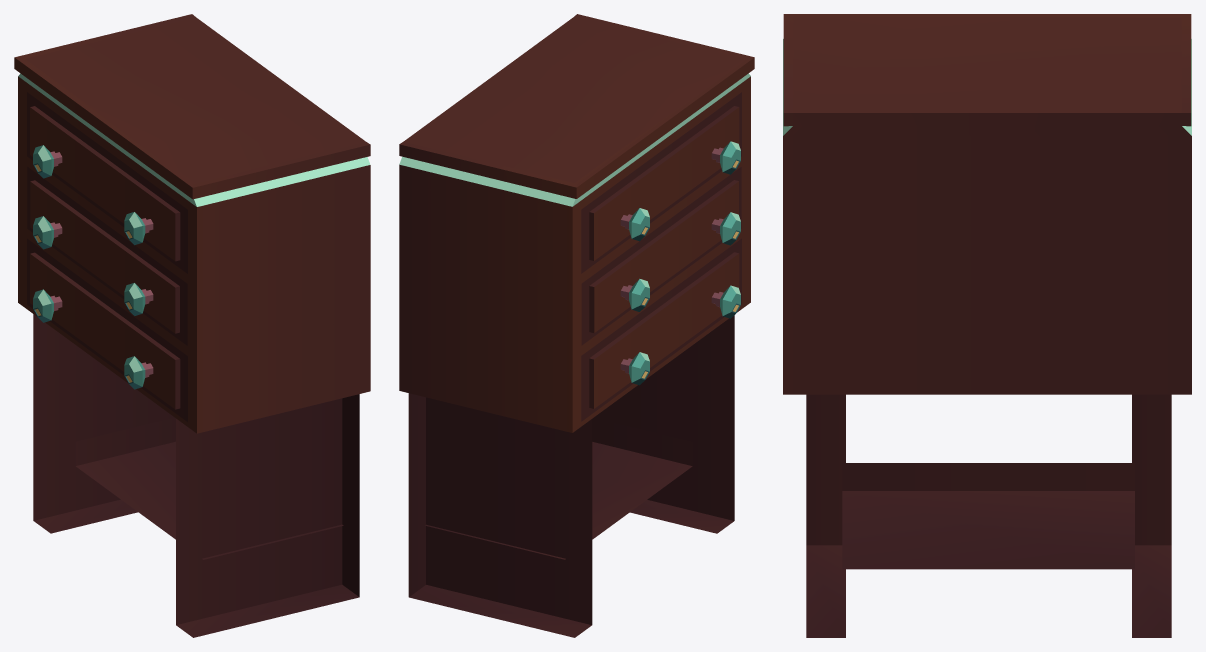
Rendered from Furniture_Dresser03.fbx.
3 views of the same model, side by side, from view 1: azimuth 30°, elevation 25°; view 2: azimuth 150°, elevation 25°; view 3: azimuth 270°, elevation 25° (orthographic). The views are drawn at different scales.
Parts seen in each view (by area): view 1: Cube.349; view 2: Cube.349; view 3: Cube.349.
Part boxes in pixels (left/top/right/bottom): Cube.349: left=14, top=14, right=370, bottom=637; Cube.349: left=399, top=14, right=754, bottom=637; Cube.349: left=783, top=14, right=1191, bottom=637.
Bounding box in the file's own units: 24.59 × 53.92 × 38.01.
